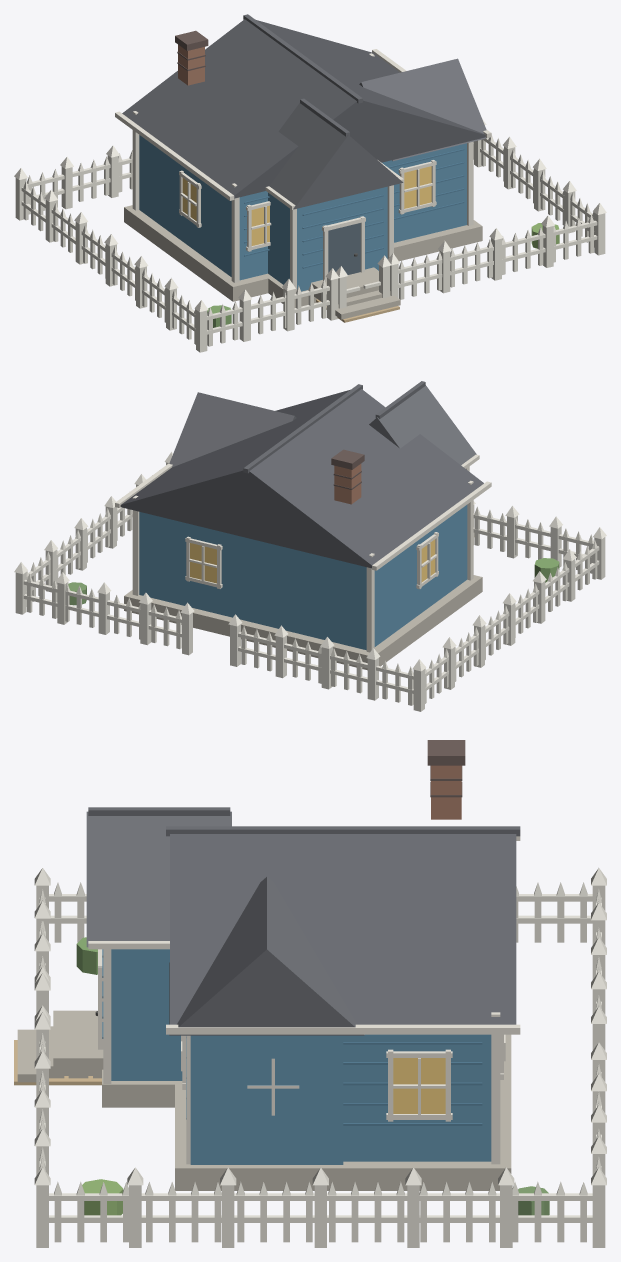
Rendered from house_0.glb.
The picture shows the model from 3 angles, top to bottom: view 1: azimuth 30°, elevation 25°; view 2: azimuth 150°, elevation 25°; view 3: azimuth 270°, elevation 25°; orthographic projection. The views are drawn at different scales.
Parts seen in each view (by area): view 1: MainRoof_dark_charcoal_gable, MainWalls_blue_core, FrontGableRoof_dark_charcoal, FrontGableWalls_blue_projection, Foundation_main_slab, RightSideGableRoof_dark_charcoal, RightGableWalls_blue_projection, FrontDoor_door_panel, MainRoof_left_eave_trim, FenceFrontRight_rail_lower, MainRoof_ridge_trim, FenceFrontRight_rail_upper (+22 smaller); view 2: MainRoof_dark_charcoal_gable, MainWalls_blue_core, Foundation_main_slab, RightSideGableRoof_dark_charcoal, FrontGableRoof_dark_charcoal, MainRoof_left_eave_trim, MainRoof_ridge_trim, Chimney_brick_stack, FenceLeftSide_rail_lower, FenceLeftSide_rail_upper, FenceBackLeftPartial_rail_lower, Window_back_suggestion_glass (+18 smaller); view 3: MainRoof_dark_charcoal_gable, RightGableWalls_blue_projection, RightSideGableRoof_dark_charcoal, MainWalls_blue_core, FrontGableRoof_dark_charcoal, Foundation_main_slab, FrontGableWalls_blue_projection, FenceRightSide_rail_lower, FenceRightSide_rail_upper, MainRoof_right_eave_trim, FrontStoop_landing, MainRoof_ridge_trim (+20 smaller).
Part boxes in pixels (left/top/right/bottom): MainRoof_dark_charcoal_gable: left=122, top=19, right=485, bottom=198; MainWalls_blue_core: left=139, top=135, right=466, bottom=280; FrontGableRoof_dark_charcoal: left=269, top=103, right=403, bottom=209; FrontGableWalls_blue_projection: left=268, top=186, right=387, bottom=291; Foundation_main_slab: left=124, top=205, right=482, bottom=301; RightSideGableRoof_dark_charcoal: left=359, top=58, right=486, bottom=161; RightGableWalls_blue_projection: left=395, top=143, right=466, bottom=242; FrontDoor_door_panel: left=328, top=223, right=360, bottom=274; MainRoof_left_eave_trim: left=115, top=111, right=234, bottom=200; FenceFrontRight_rail_lower: left=398, top=235, right=597, bottom=287; MainRoof_ridge_trim: left=243, top=14, right=362, bottom=103; FenceFrontRight_rail_upper: left=398, top=220, right=597, bottom=273; MainRoof_dark_charcoal_gable: left=120, top=389, right=483, bottom=568; MainWalls_blue_core: left=139, top=505, right=467, bottom=650; Foundation_main_slab: left=124, top=575, right=482, bottom=670; RightSideGableRoof_dark_charcoal: left=169, top=392, right=296, bottom=467; FrontGableRoof_dark_charcoal: left=369, top=385, right=476, bottom=464; MainRoof_left_eave_trim: left=372, top=481, right=491, bottom=570; MainRoof_ridge_trim: left=243, top=384, right=362, bottom=473; Chimney_brick_stack: left=334, top=464, right=361, bottom=504; FenceLeftSide_rail_lower: left=425, top=560, right=599, bottom=691; FenceLeftSide_rail_upper: left=425, top=546, right=599, bottom=677; FenceBackLeftPartial_rail_lower: left=238, top=646, right=413, bottom=693; Window_back_suggestion_glass: left=190, top=543, right=216, bottom=583; MainRoof_dark_charcoal_gable: left=170, top=834, right=516, bottom=1024; RightGableWalls_blue_projection: left=190, top=1035, right=343, bottom=1164; RightSideGableRoof_dark_charcoal: left=169, top=877, right=364, bottom=1035; MainWalls_blue_core: left=343, top=1034, right=491, bottom=1161; FrontGableRoof_dark_charcoal: left=86, top=811, right=231, bottom=947; Foundation_main_slab: left=175, top=1034, right=511, bottom=1190; FrontGableWalls_blue_projection: left=111, top=949, right=182, bottom=1080; FenceRightSide_rail_lower: left=49, top=1215, right=592, bottom=1222; FenceRightSide_rail_upper: left=49, top=1193, right=592, bottom=1200; MainRoof_right_eave_trim: left=166, top=1024, right=520, bottom=1034; FrontStoop_landing: left=53, top=1010, right=103, bottom=1075; MainRoof_ridge_trim: left=166, top=826, right=520, bottom=836.
Bounding box in the file's own units: 8.08 × 3.57 × 6.61.
